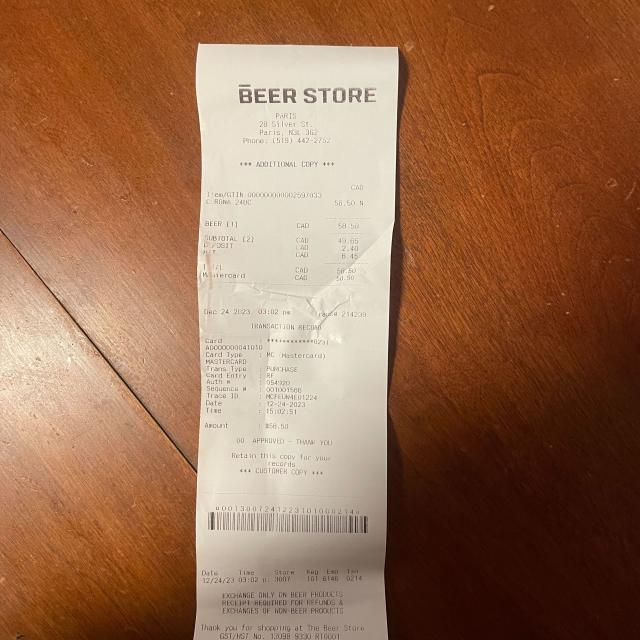item: (202, 219, 372, 231)
store_name: (236, 82, 380, 106)
total_amount: (200, 263, 360, 275)
transaction_date: (202, 307, 254, 317)
